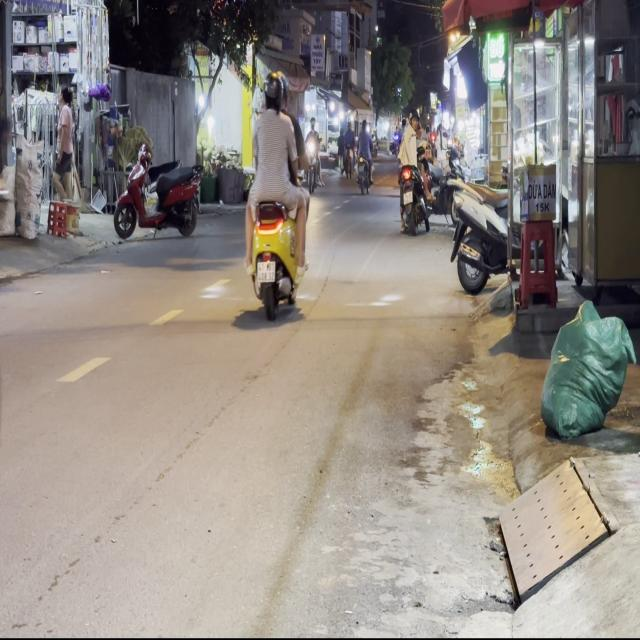helmet: (262, 72, 282, 111), (274, 71, 288, 110)
licenseplate: (240, 68, 310, 320)
nohelmet: (257, 260, 274, 282)
